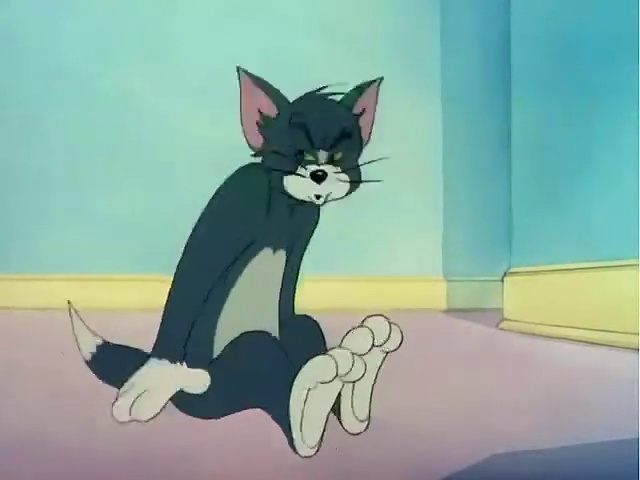tom: (69, 42, 418, 462)
